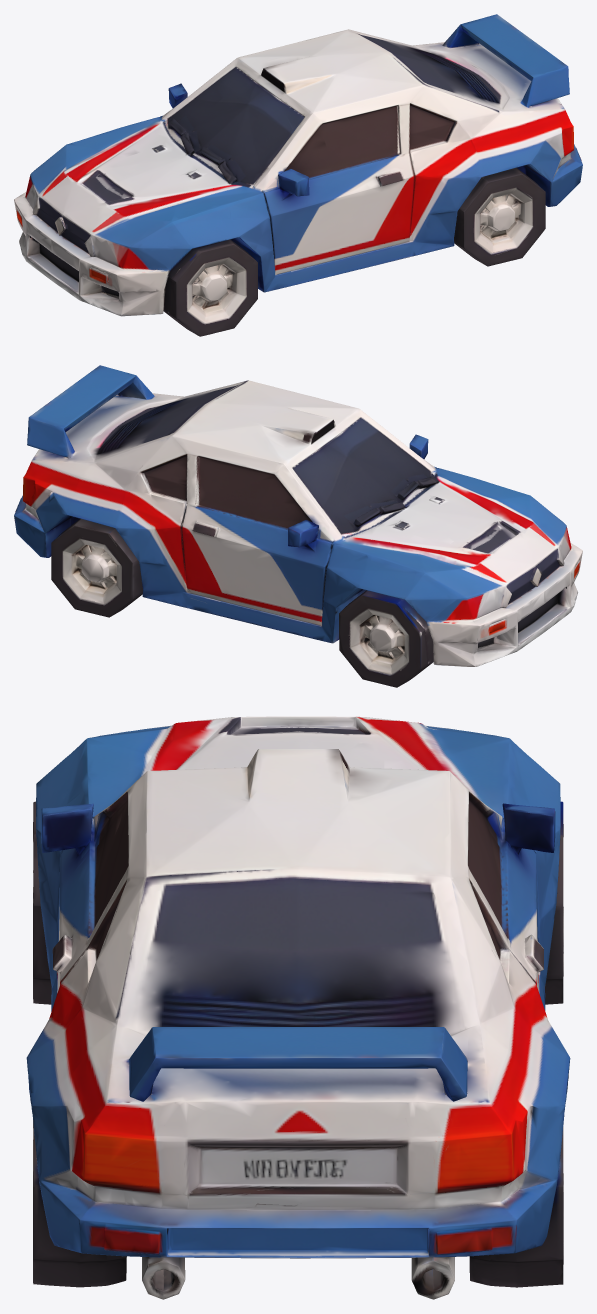
Rendered from car7.fbx.
3 views of the same model, one above another, from view 1: azimuth 30°, elevation 25°; view 2: azimuth 150°, elevation 25°; view 3: azimuth 270°, elevation 25° (orthographic). The views are drawn at different scales.
Parts seen in each view (by area): view 1: node_0; view 2: node_0; view 3: node_0.
Boxes of the visible parts, x1,y1,x2,y2 form: node_0: (14,14,582,336); node_0: (14,365,582,687); node_0: (26,716,570,1299).
Size of the model in its own units: 115 by 40.48 by 55.34.
